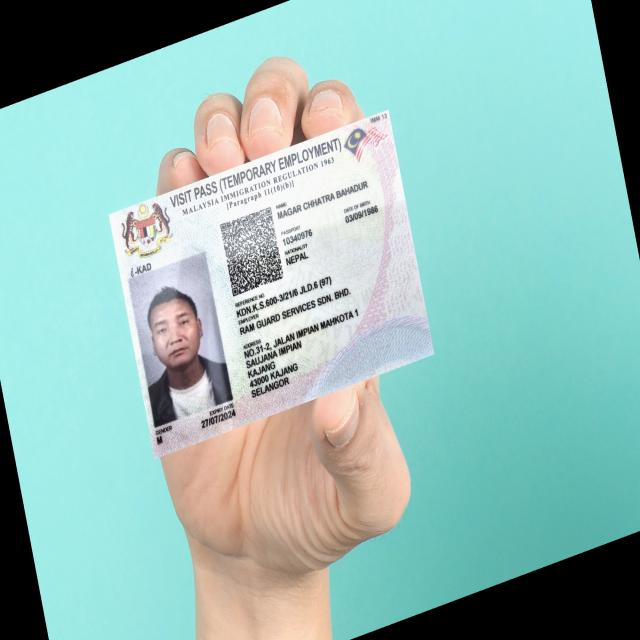ikad-temp: (108, 108, 434, 458)
